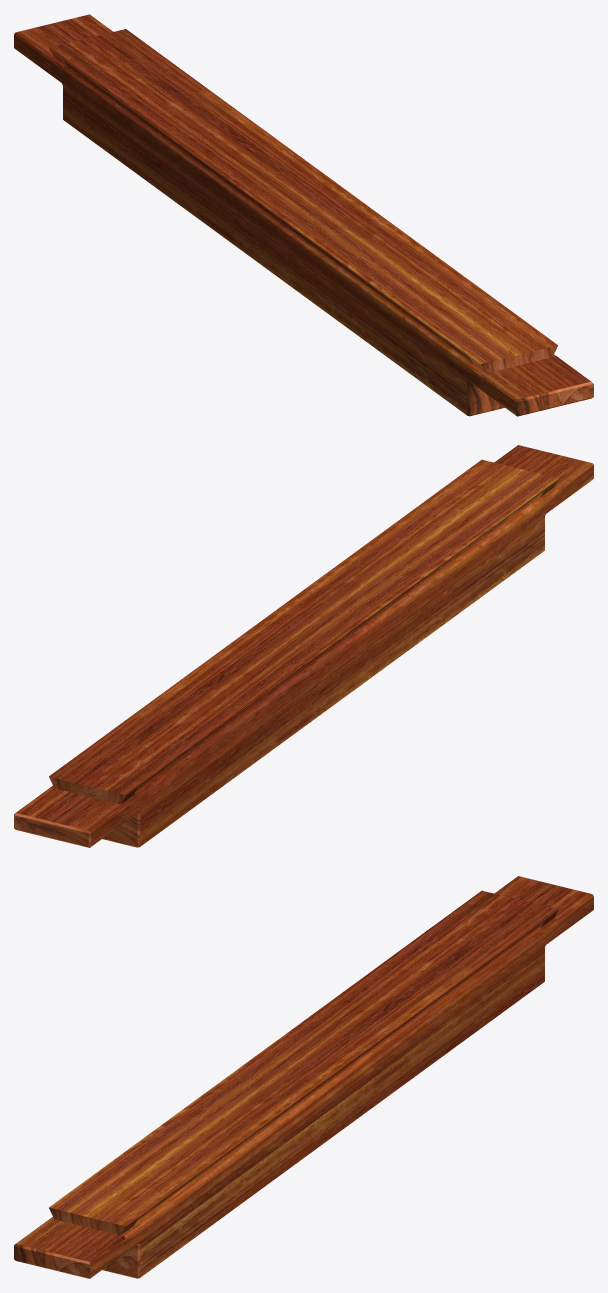
The model's file is GMY_J_chuandai.FBX.
3 views of the same model, one above another, from view 1: azimuth 30°, elevation 25°; view 2: azimuth 150°, elevation 25°; view 3: azimuth 330°, elevation 25° (orthographic).
Visible parts, largest first — view 1: GMY_J_chuandai; view 2: GMY_J_chuandai; view 3: GMY_J_chuandai.
Boxes of the visible parts, left/top/right/bottom form: GMY_J_chuandai: left=14, top=14, right=593, bottom=416; GMY_J_chuandai: left=14, top=445, right=593, bottom=847; GMY_J_chuandai: left=14, top=876, right=593, bottom=1278.
Size of the model in its own units: 3.2 by 2.5 by 36.1.
